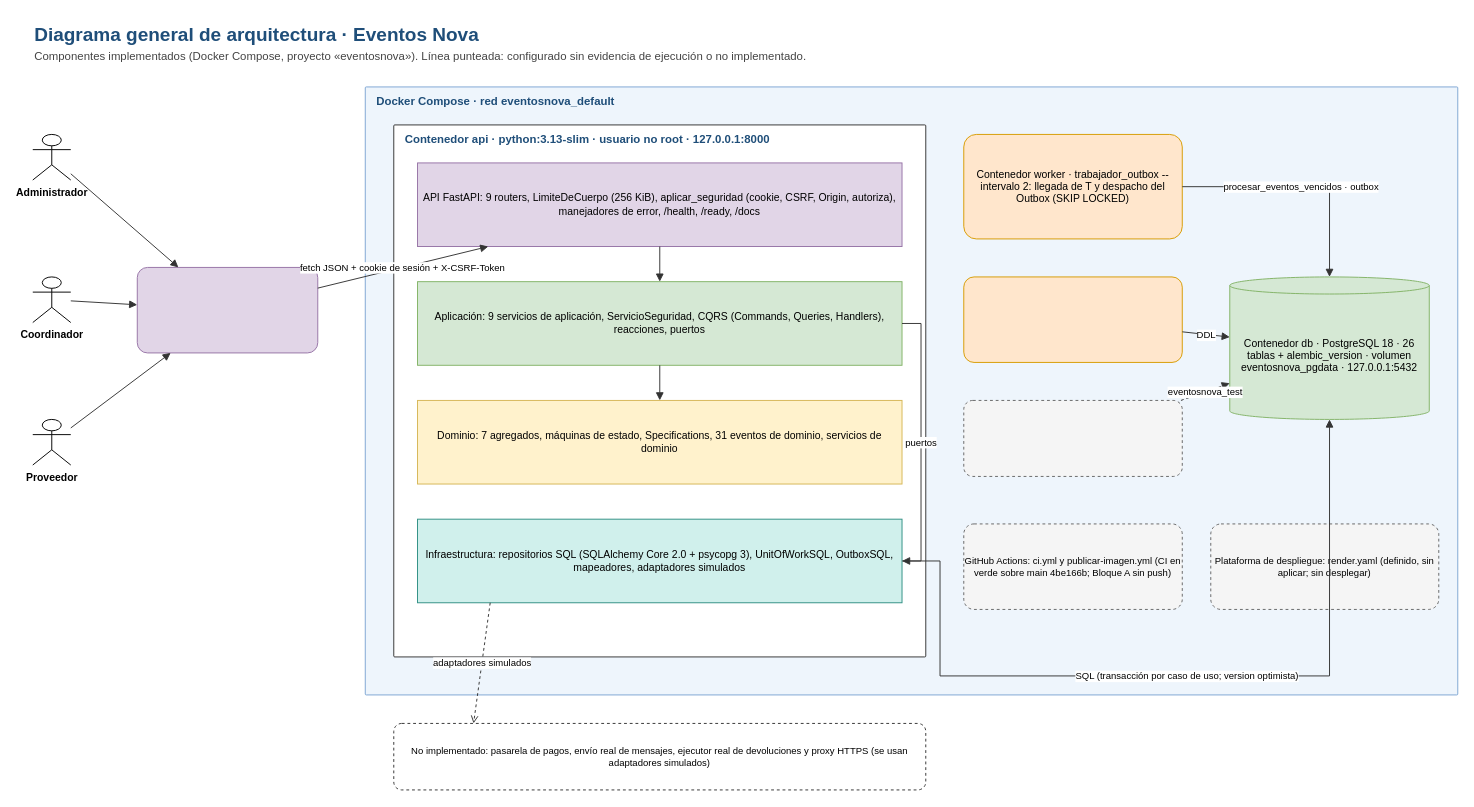
Some shapes in this 1474 by 807 pixel diagram are drawn without their labels. The shapes that lost their labels are listed below. From the top down, each one's centre as x and y in pixels, then its label:
[227,309]: Navegador · Interfaz web /app/ (HTML, CSS y JavaScript sin frameworks)
[1072,319]: Contenedor migrate · alembic upgrade head (0001-0009), se ejecuta una vez
[1072,437]: Contenedor tests (perfil «tests») · unittest contra eventosnova_test
